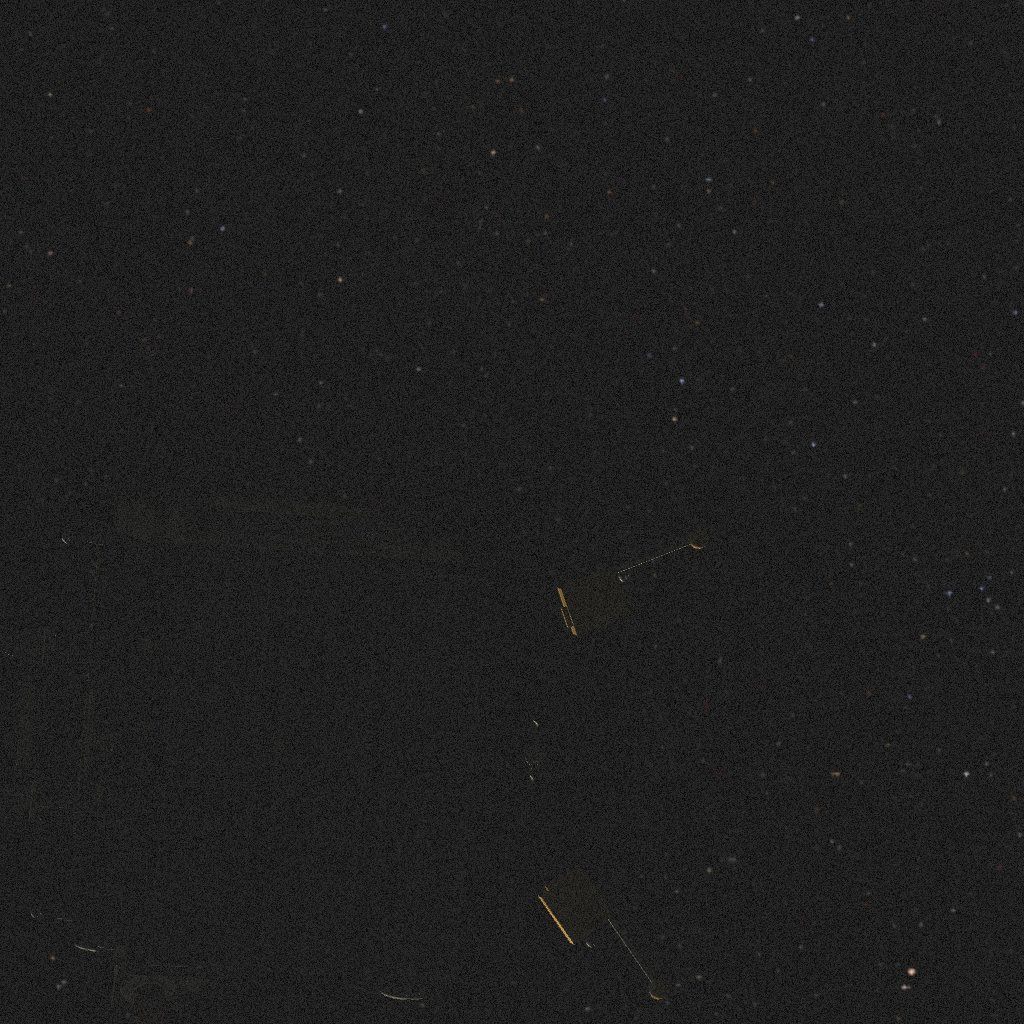proba_2: (0, 483, 708, 1024)
